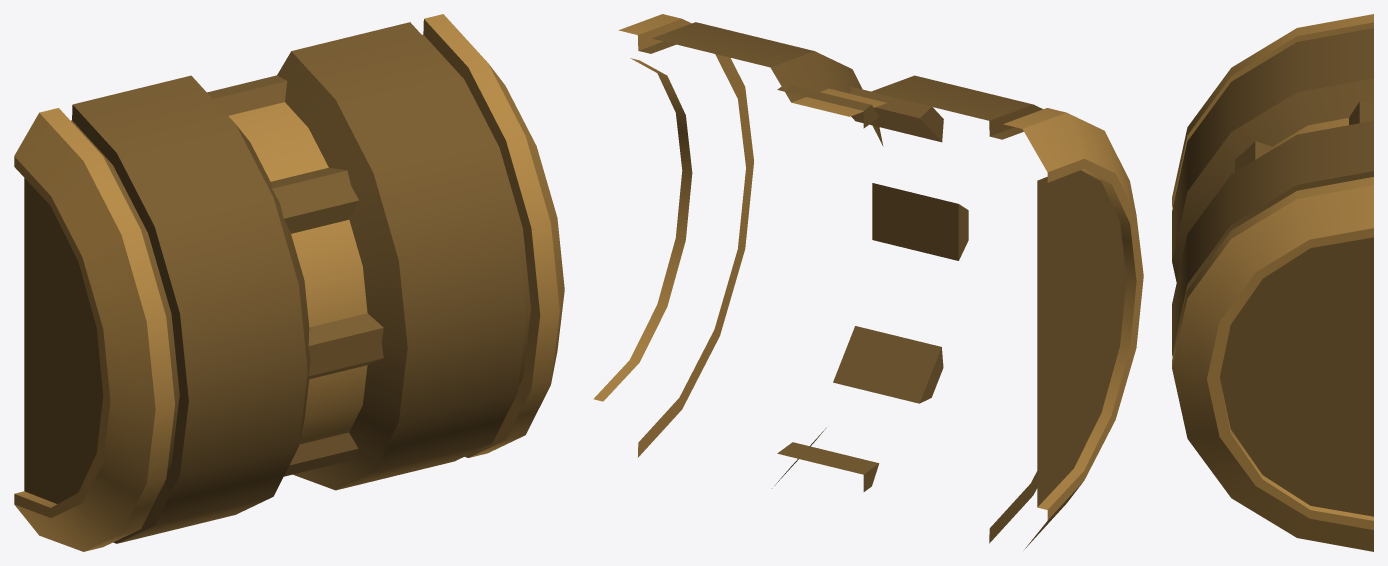
The model's file is Details_Cylinder.glb.
The picture shows the model from 3 angles, left to right: view 1: azimuth 30°, elevation 25°; view 2: azimuth 150°, elevation 25°; view 3: azimuth 270°, elevation 25°; orthographic projection. The views are drawn at different scales.
Parts seen in each view (by area): view 1: Details_Cylinder_Cylinder.021; view 2: Details_Cylinder_Cylinder.021; view 3: Details_Cylinder_Cylinder.021.
Part boxes in pixels (x1,y1,x2,y2): Details_Cylinder_Cylinder.021: (14, 14, 564, 551); Details_Cylinder_Cylinder.021: (593, 14, 1143, 549); Details_Cylinder_Cylinder.021: (1172, 14, 1373, 551).
Size of the model in its own units: 0.4302 by 0.3827 by 0.1909.
